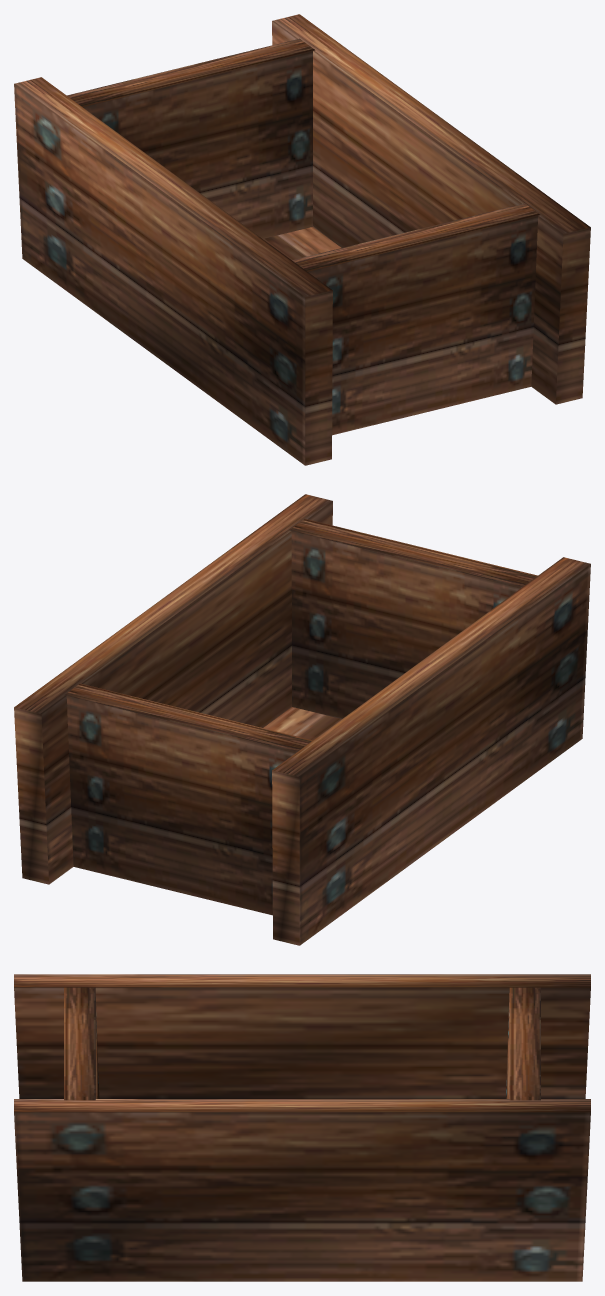
File: crate02.obj
The picture shows the model from 3 angles, top to bottom: view 1: azimuth 30°, elevation 25°; view 2: azimuth 150°, elevation 25°; view 3: azimuth 270°, elevation 25°; orthographic projection.
Parts seen in each view (by area): view 1: crate02.m2; view 2: crate02.m2; view 3: crate02.m2.
Part boxes in pixels (x1,y1,x2,y2): crate02.m2: (14,14,590,465); crate02.m2: (14,494,590,945); crate02.m2: (14,974,590,1281).
Bounding box in the file's own units: 0.8646 × 0.5002 × 1.53.
1 material, 1 textured.
